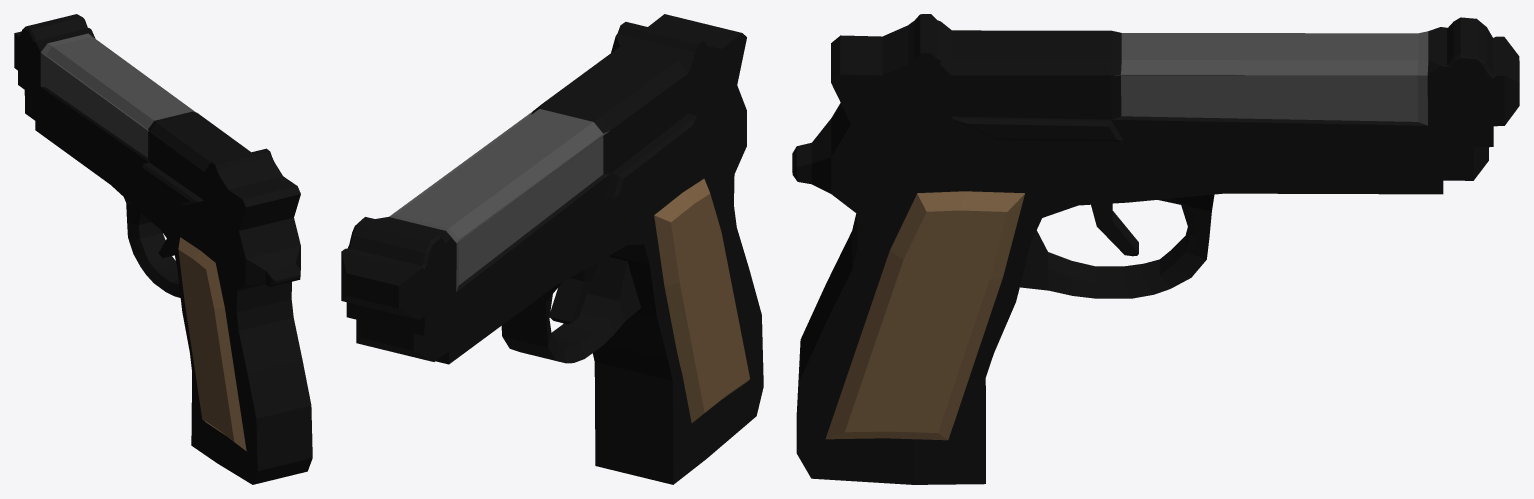
The model's file is pistol model.fbx.
3 renders of one model, left to right at view 1: azimuth 30°, elevation 25°; view 2: azimuth 150°, elevation 25°; view 3: azimuth 270°, elevation 25°, orthographic. The views are drawn at different scales.
Parts seen in each view (by area): view 1: Cube, Cube.001; view 2: Cube, Cube.001; view 3: Cube, Cube.001.
Boxes of the visible parts, <box> form: Cube: <box>14,14,312,484</box>; Cube.001: <box>178,237,246,451</box>; Cube: <box>341,14,763,484</box>; Cube.001: <box>654,179,749,422</box>; Cube: <box>792,14,1519,484</box>; Cube.001: <box>825,191,1024,440</box>.
Size of the model in its own units: 104 by 406 by 620.
